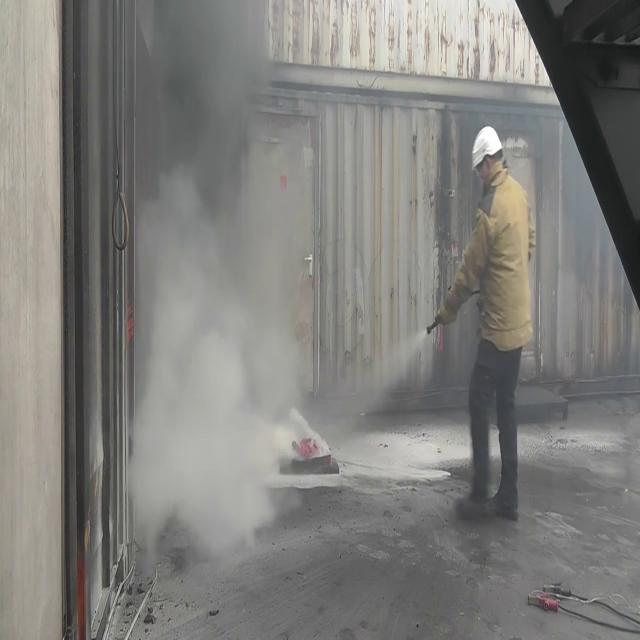Smoke: (127, 1, 350, 582)
